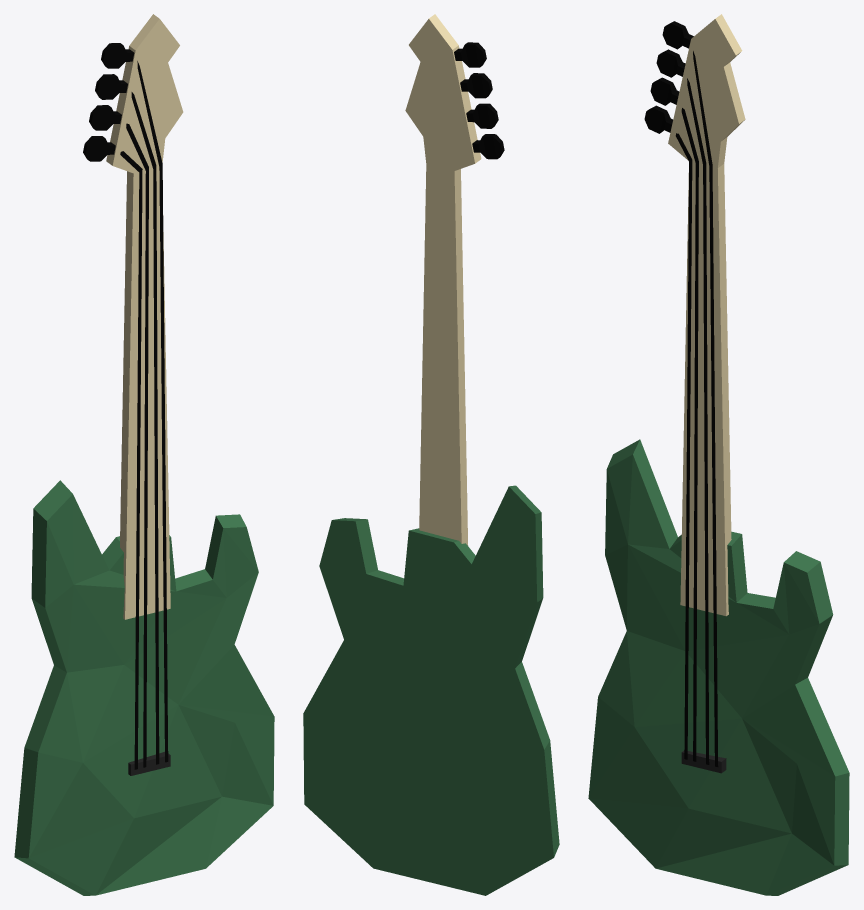
File: BassGuitar.fbx
3 renders of one model, left to right at view 1: azimuth 30°, elevation 25°; view 2: azimuth 150°, elevation 25°; view 3: azimuth 330°, elevation 25°, orthographic.
Visible parts, largest first — view 1: Body, Neck, Ebene_3, Ebene_2, Ebene_1, Ebene, Tuner, Tuner_2, Tuner_3, Tuner_4, Bridge; view 2: Body, Neck, Tuner_3, Tuner, Tuner_2, Tuner_4; view 3: Body, Neck, Ebene_3, Ebene_2, Ebene_1, Ebene, Tuner, Bridge, Tuner_2, Tuner_3, Tuner_4.
Boxes of the visible parts, x1,y1,x2,y2 form: Body: [14, 480, 274, 895]; Neck: [106, 14, 183, 619]; Ebene_3: [137, 61, 168, 762]; Ebene_2: [131, 92, 159, 764]; Ebene_1: [126, 123, 148, 767]; Ebene: [120, 151, 142, 769]; Tuner: [101, 43, 134, 68]; Tuner_2: [95, 74, 127, 99]; Tuner_3: [89, 105, 121, 130]; Tuner_4: [83, 136, 115, 161]; Bridge: [128, 751, 170, 775]; Body: [303, 485, 559, 895]; Neck: [405, 14, 481, 545]; Tuner_3: [466, 103, 498, 128]; Tuner: [454, 42, 486, 67]; Tuner_2: [460, 73, 492, 98]; Tuner_4: [472, 134, 504, 159]; Body: [588, 439, 849, 895]; Neck: [668, 14, 745, 616]; Ebene_3: [693, 51, 718, 766]; Ebene_2: [687, 78, 709, 764]; Ebene_1: [681, 108, 698, 761]; Ebene: [675, 133, 692, 759]; Tuner: [662, 21, 693, 49]; Bridge: [681, 750, 726, 773]; Tuner_2: [656, 49, 685, 77]; Tuner_3: [650, 77, 679, 105]; Tuner_4: [644, 105, 672, 133].
Bounding box in the file's own units: 39.61 × 130 × 4.13.
